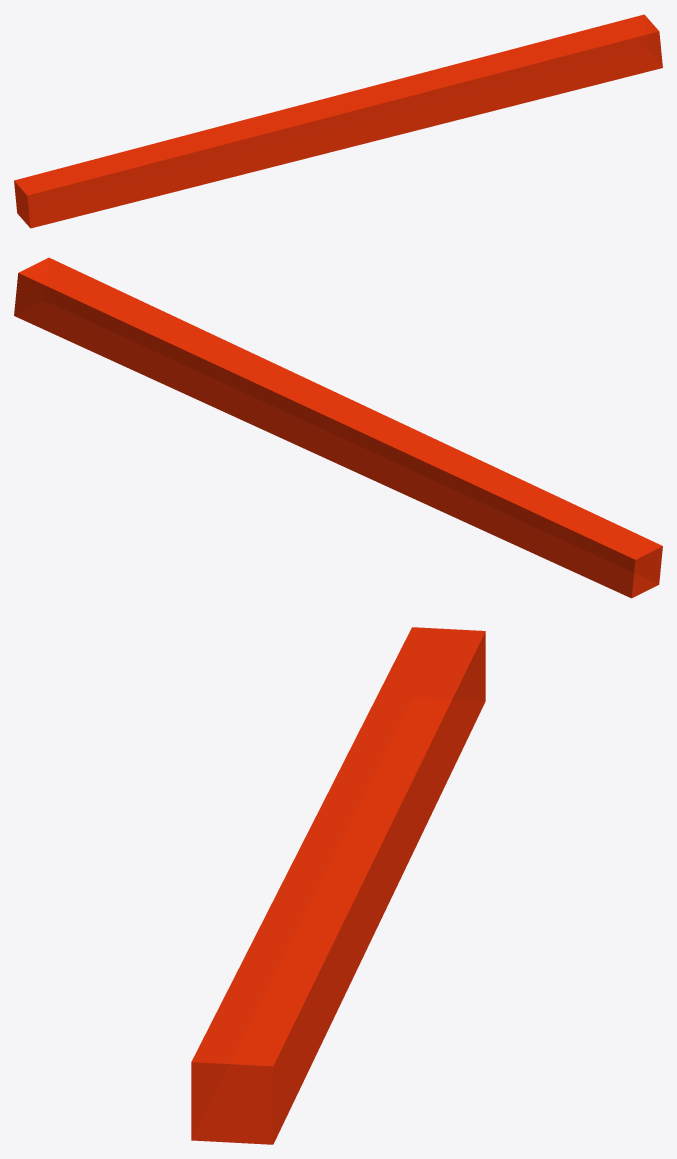
File: Event_421115418_EErechit_78.fbx
3 views of the same model, one above another, from view 1: azimuth 30°, elevation 25°; view 2: azimuth 150°, elevation 25°; view 3: azimuth 270°, elevation 25° (orthographic). The views are drawn at different scales.
Parts seen in each view (by area): view 1: Model; view 2: Model; view 3: Model.
Part boxes in pixels (bbox=[...]): Model: bbox=[14, 14, 662, 228]; Model: bbox=[14, 257, 662, 598]; Model: bbox=[191, 627, 485, 1144].
Bounding box in the file's own units: 1.32 × 0.211 × 0.2867.
